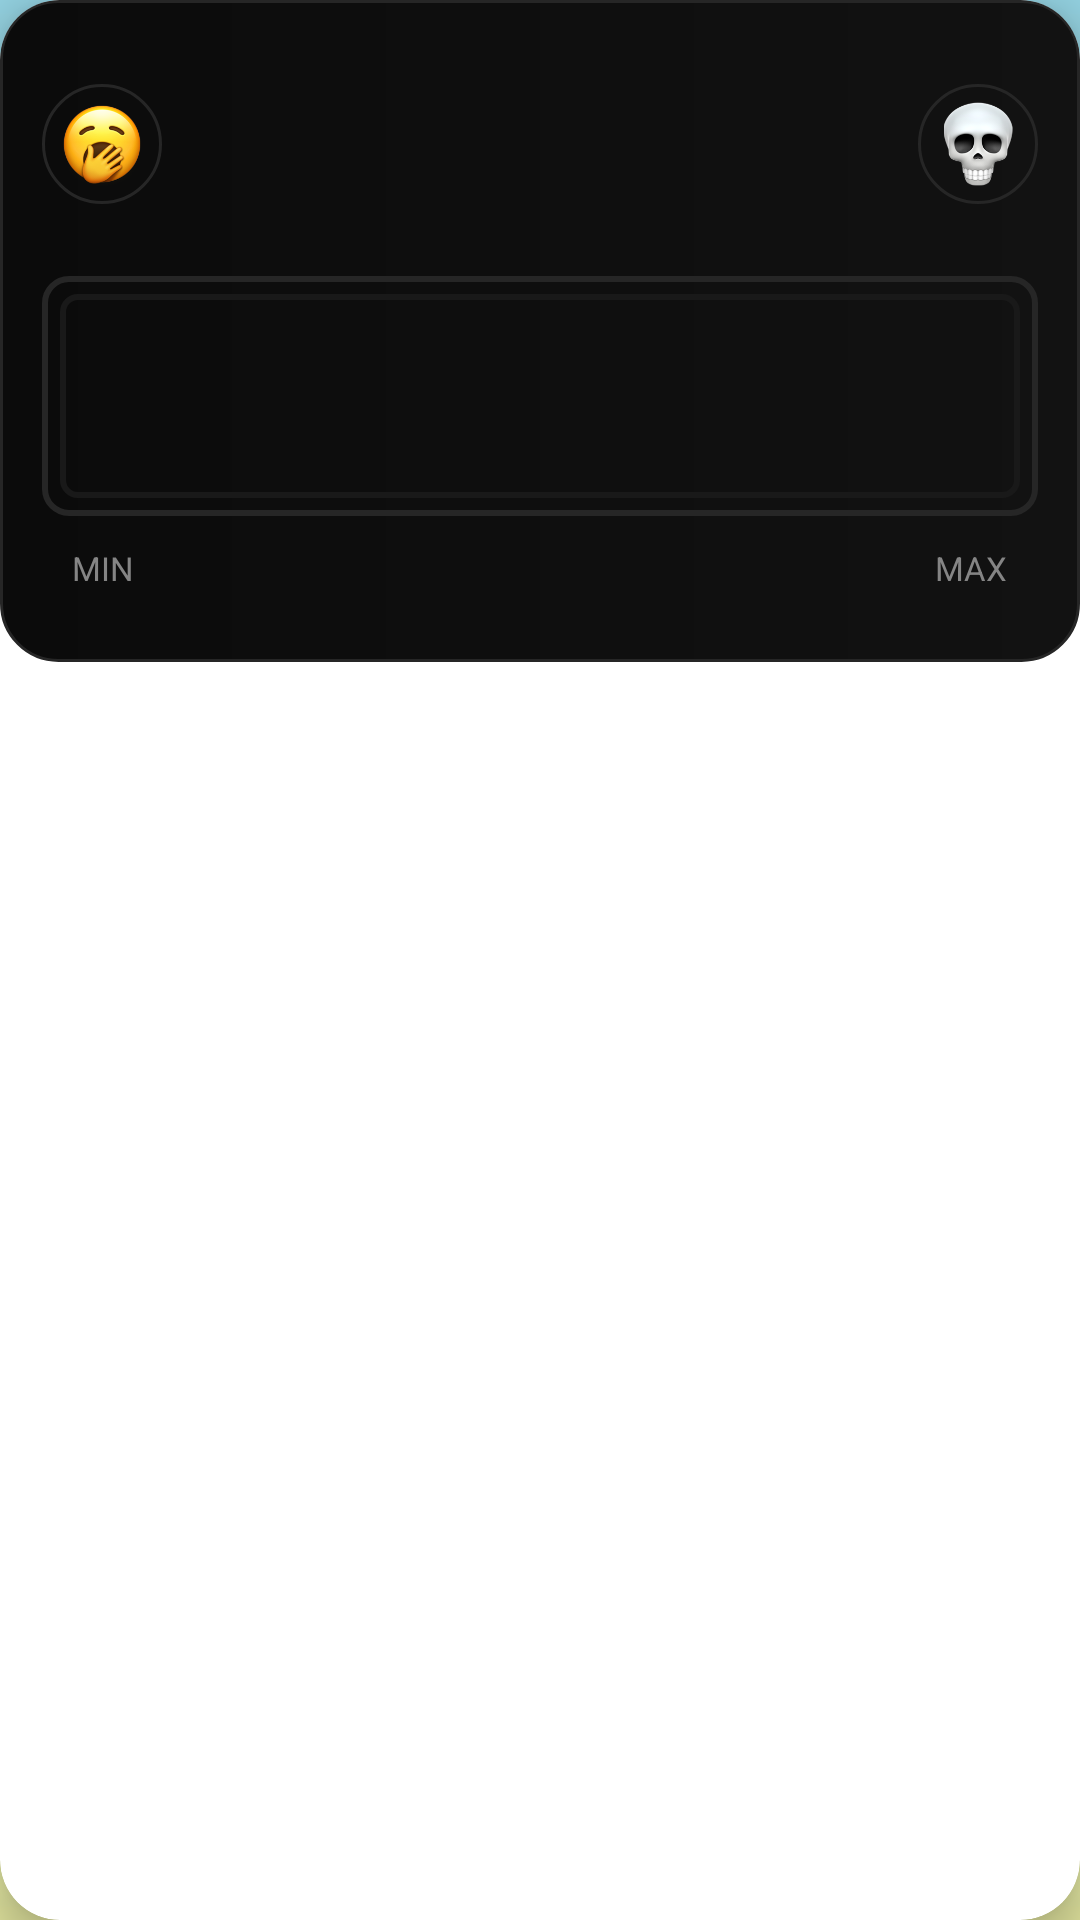

Where icons sit on this 1080 × 1920 app screen, as {"left": x1, "top": y1, "right": x2, "bottom": y2}:
skull: {"left": 944, "top": 102, "right": 1013, "bottom": 186}
yawn: {"left": 42, "top": 84, "right": 162, "bottom": 204}
